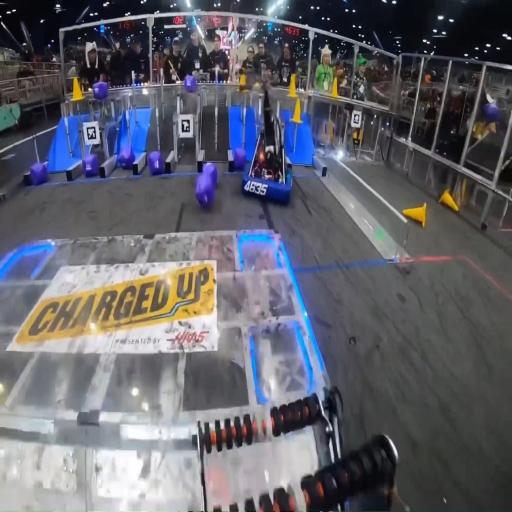robot: (241, 79, 293, 204)
